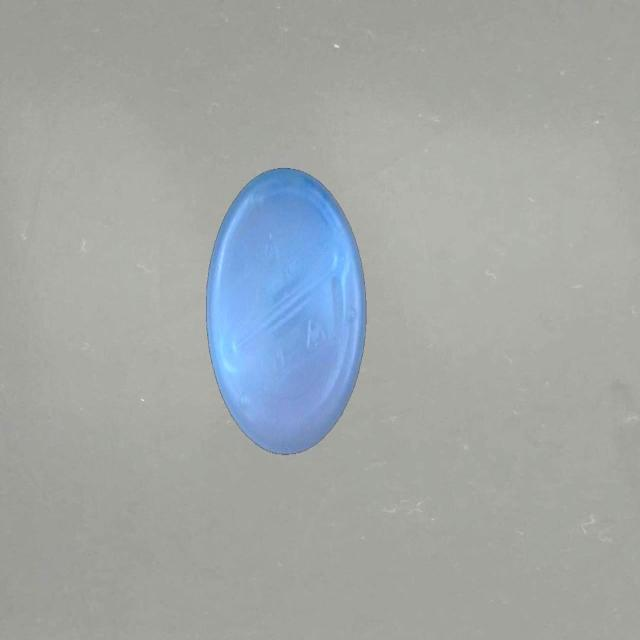bottle: (207, 165, 367, 455)
